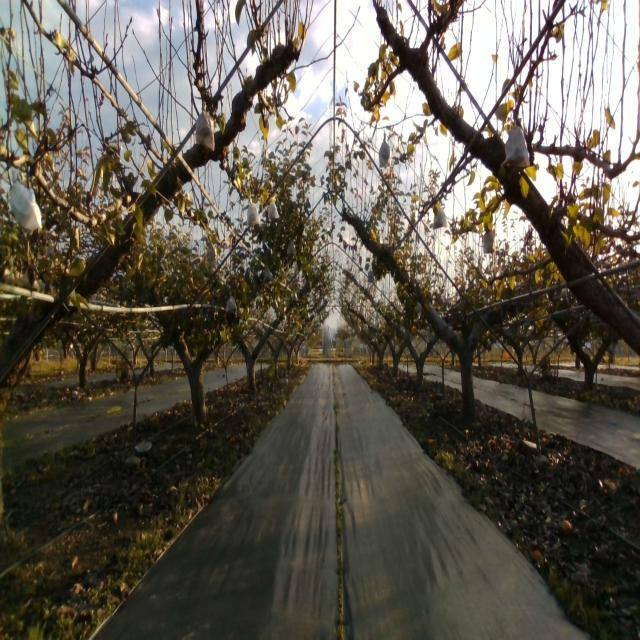pearbags: (9, 168, 42, 231), (500, 119, 530, 168), (195, 101, 215, 151), (205, 236, 218, 271), (379, 132, 390, 168), (433, 204, 447, 230), (246, 198, 259, 226), (226, 290, 237, 316), (268, 200, 280, 222), (484, 228, 494, 254)
